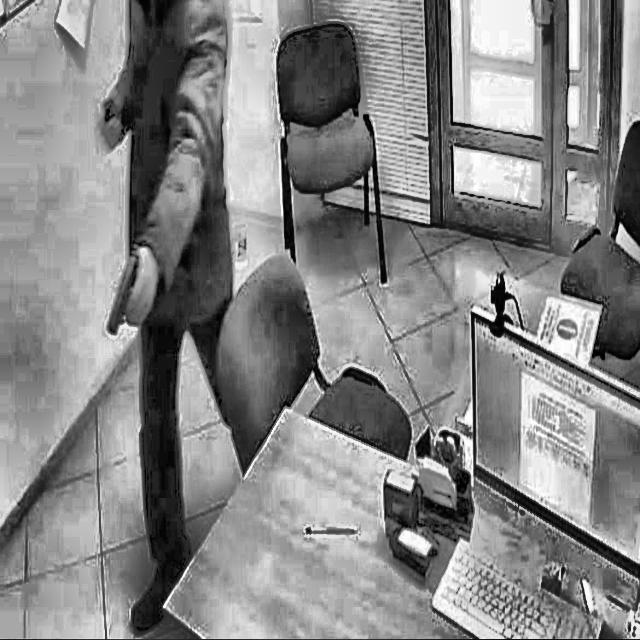pistol: (94, 201, 162, 366)
